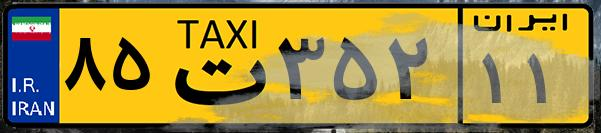1: (475, 38, 525, 113), (525, 38, 570, 115)
2: (385, 28, 445, 110)
3: (270, 28, 330, 110)
5: (330, 28, 385, 110), (110, 28, 158, 98)
8: (57, 26, 110, 100)
ت: (158, 12, 270, 120)
